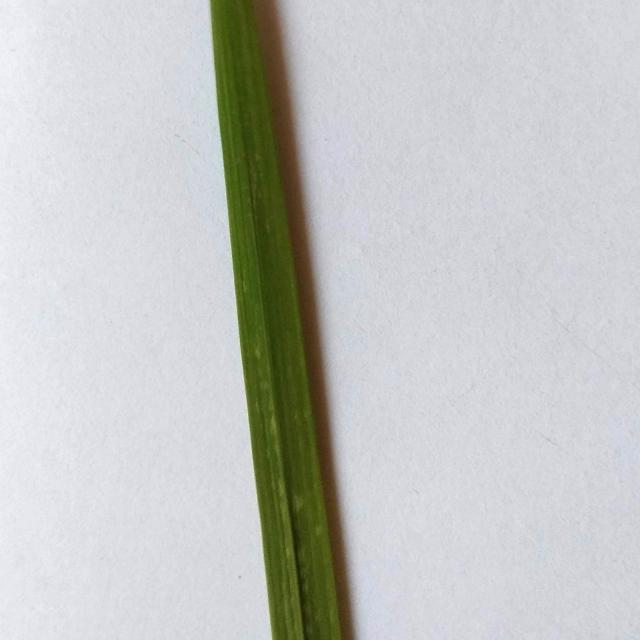healthy: (202, 1, 368, 640)
